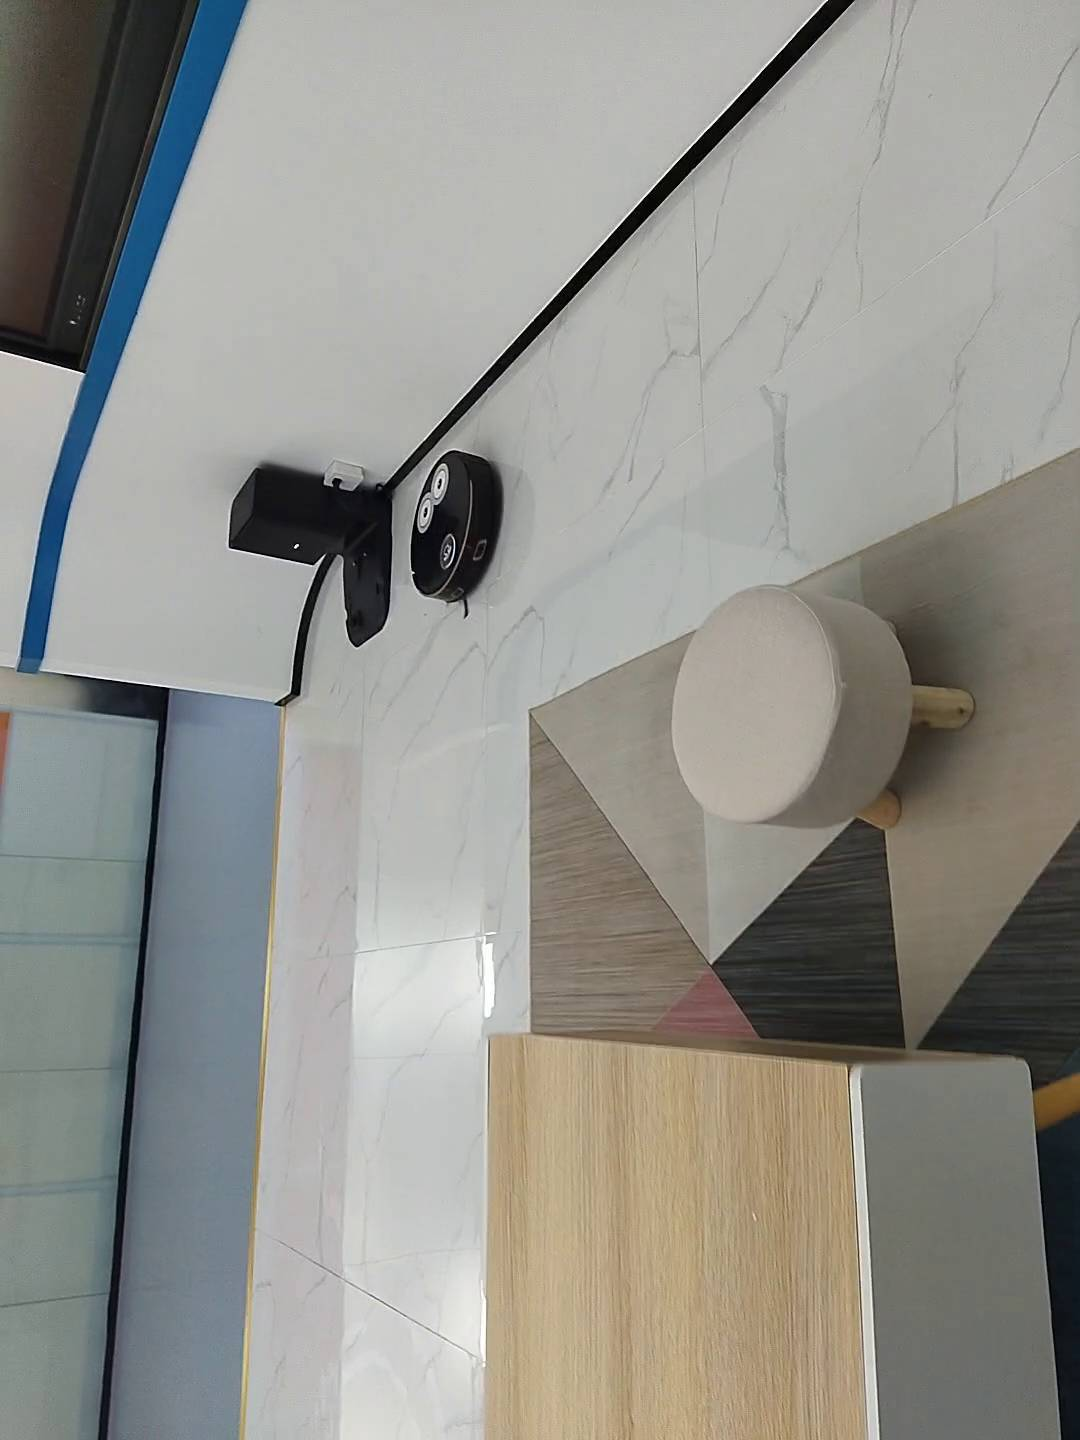dust collecting barrel: (229, 464, 400, 646)
